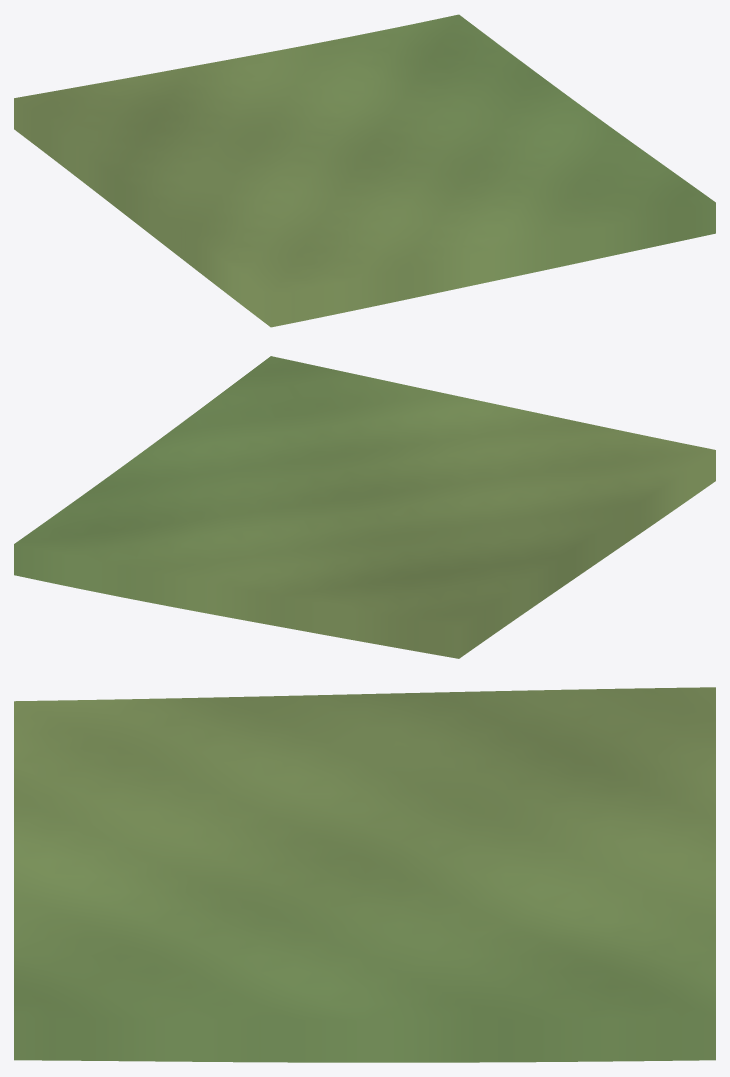
3 views of the same model, one above another, from view 1: azimuth 30°, elevation 25°; view 2: azimuth 150°, elevation 25°; view 3: azimuth 270°, elevation 25° (orthographic). The views are drawn at different scales.
Visible parts, largest first — view 1: terrain; view 2: terrain; view 3: terrain.
Part boxes in pixels (x1,y1,x2,y2): terrain: [14, 14, 715, 327]; terrain: [14, 356, 715, 658]; terrain: [14, 687, 715, 1062].
Size of the model in its own units: 30 by 3.71 by 30.
